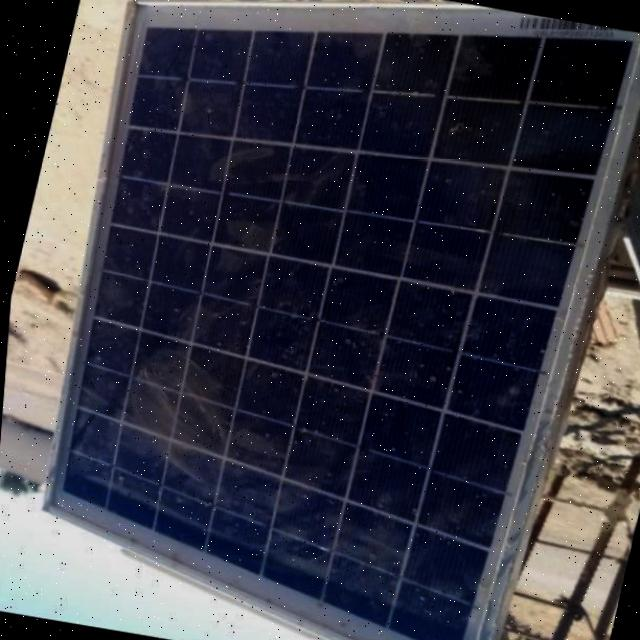Surface Contaminant: (267, 168, 546, 624), (78, 74, 360, 512), (300, 26, 558, 187)
